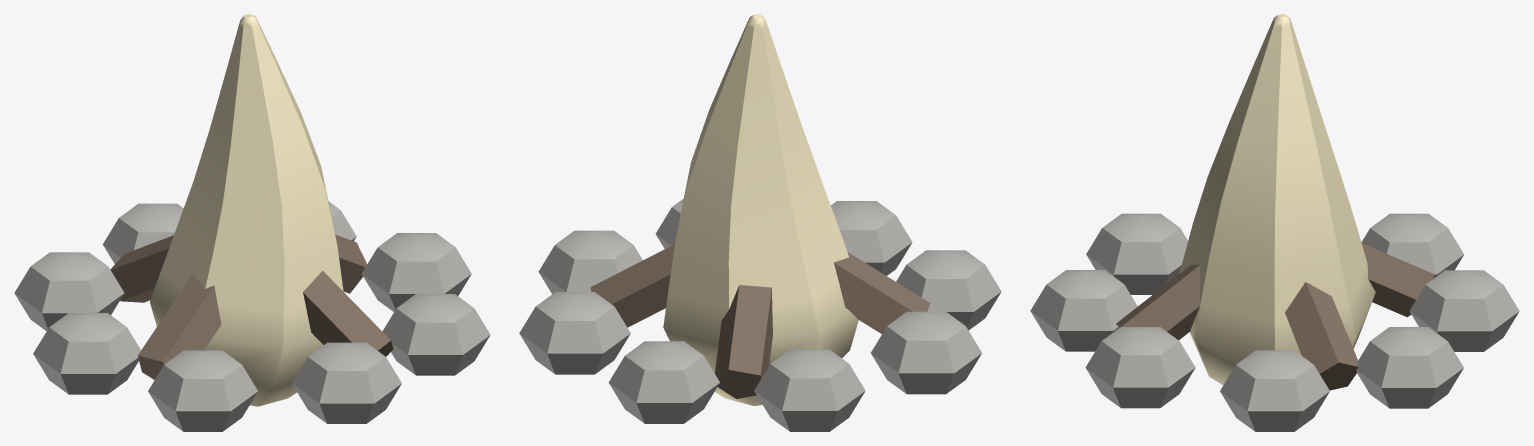
The model's file is campfire.gltf.
3 renders of one model, left to right at view 1: azimuth 30°, elevation 25°; view 2: azimuth 150°, elevation 25°; view 3: azimuth 270°, elevation 25°, orthographic.
Visible parts, largest first — view 1: Body; view 2: Body; view 3: Body.
Boxes of the visible parts, <box> form: Body: <box>14,14,490,431</box>; Body: <box>519,14,1001,431</box>; Body: <box>1030,14,1519,431</box>.
Size of the model in its own units: 1.38 by 1.19 by 1.42.
